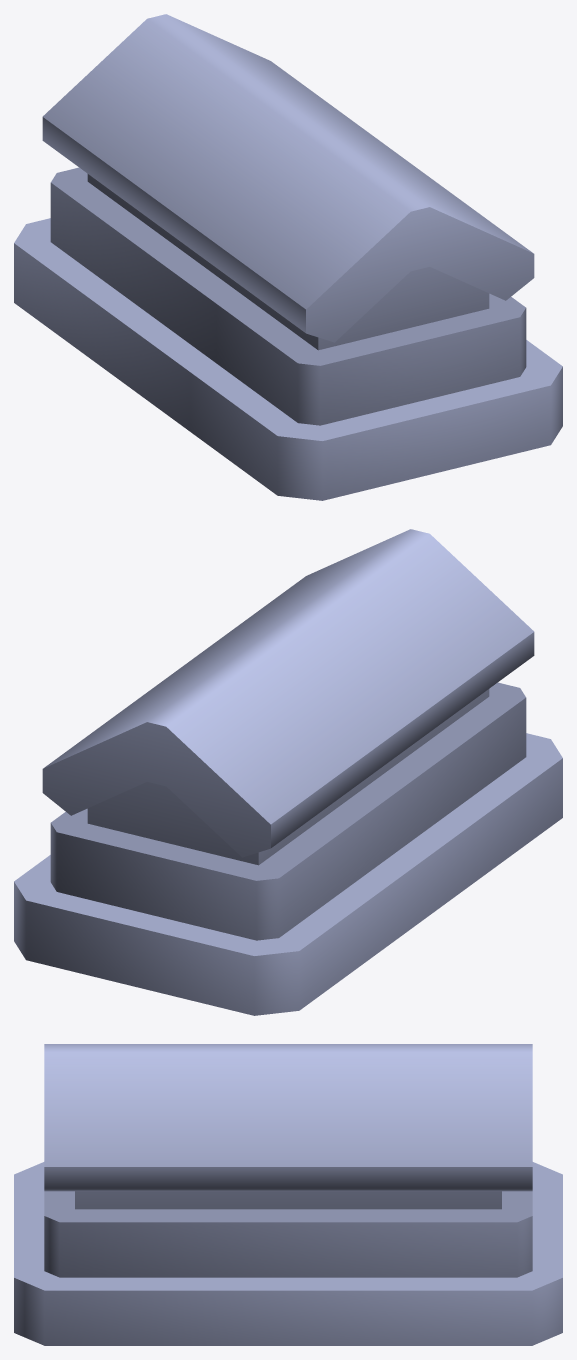
Rendered from crypt-a.glb.
3 renders of one model, top to bottom at view 1: azimuth 30°, elevation 25°; view 2: azimuth 150°, elevation 25°; view 3: azimuth 270°, elevation 25°, orthographic. The views are drawn at different scales.
Visible parts, largest first — view 1: crypt-a; view 2: crypt-a; view 3: crypt-a.
Boxes of the visible parts, x1,y1,x2,y2 form: crypt-a: (14,14,562,500); crypt-a: (14,529,562,1015); crypt-a: (14,1044,562,1345).
Bounding box in the file's own units: 0.62 × 0.5224 × 1.12.
Materials: 1 (1 with a texture image).
